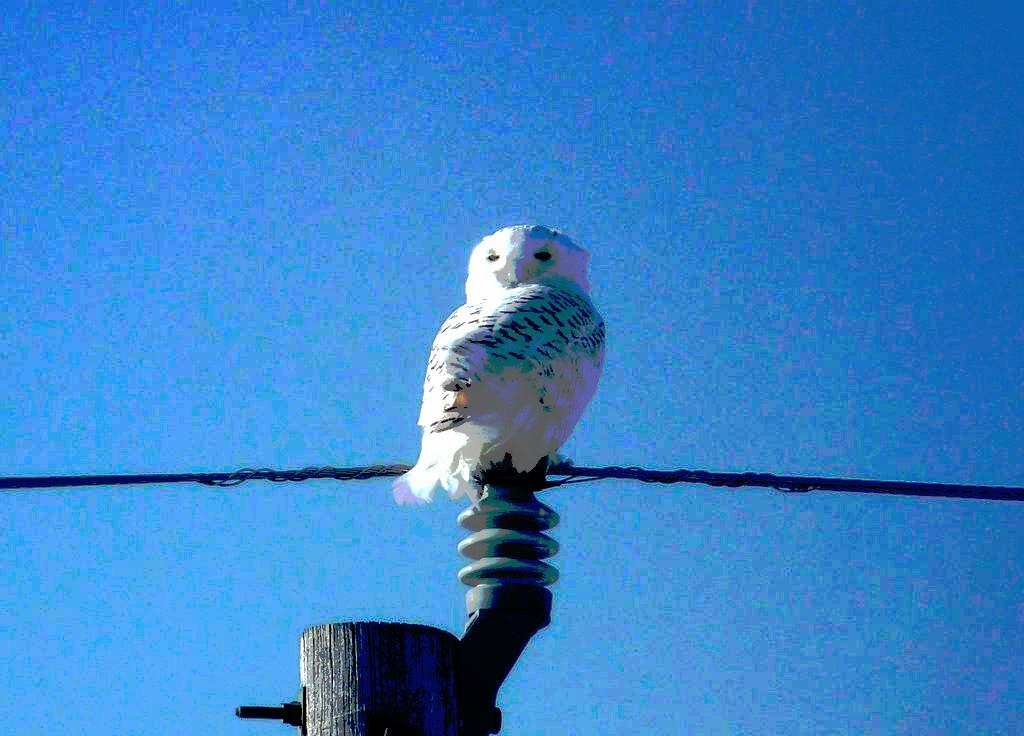Owl: (390, 219, 608, 508)
